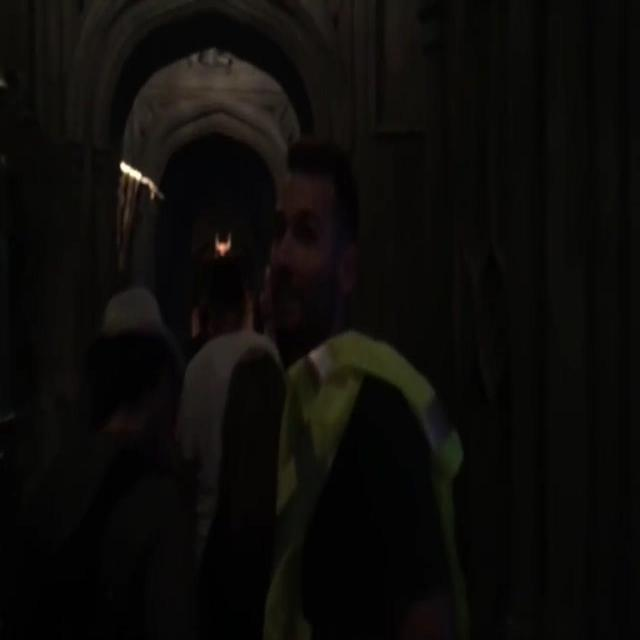Reflective-Jacket: (266, 318, 482, 640), (168, 324, 302, 638)
